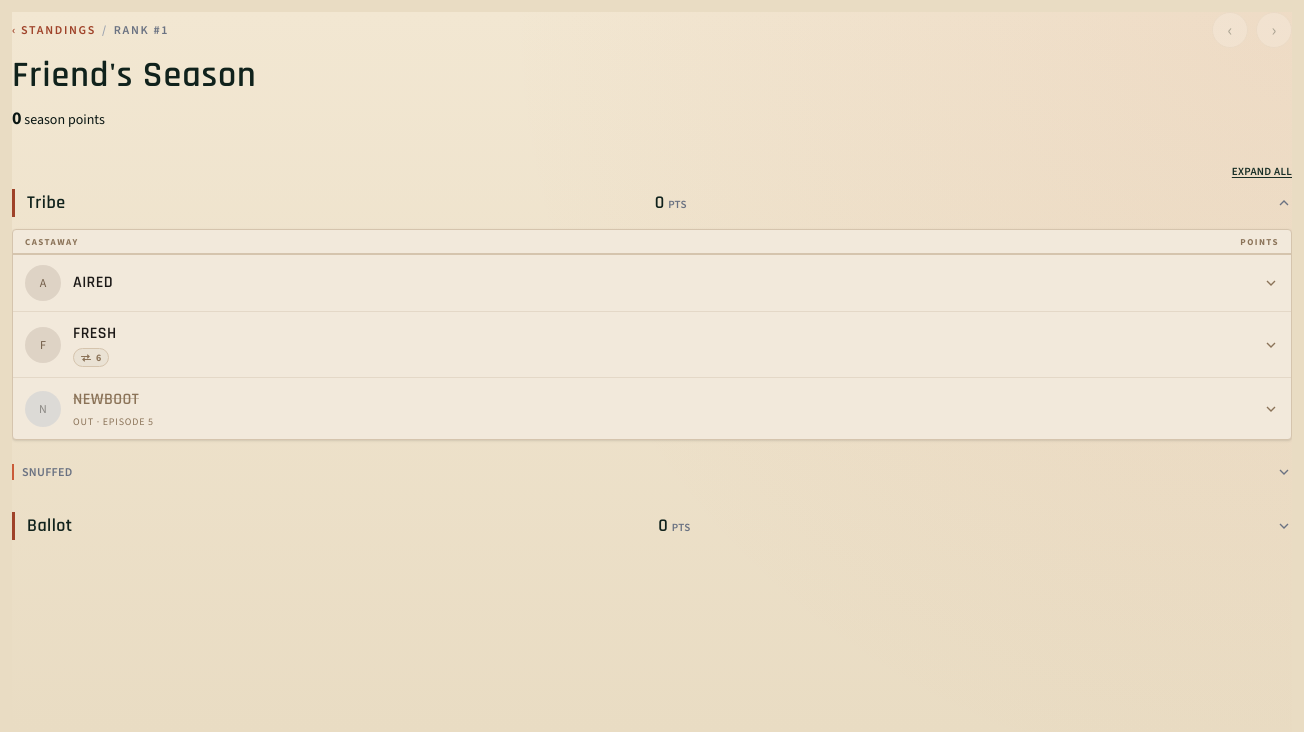
TeamPage › tucks an old boot under Snuffed and retires the swap chip once it has aired, like My Season
The image size is (1304, 732).
Expected: the text "Newboot" is shown, [73, 388, 139, 412]
Expected: the text "Oldboot" is not shown
Click the button "Snuffed" at (47, 472), box [12, 464, 1292, 480]
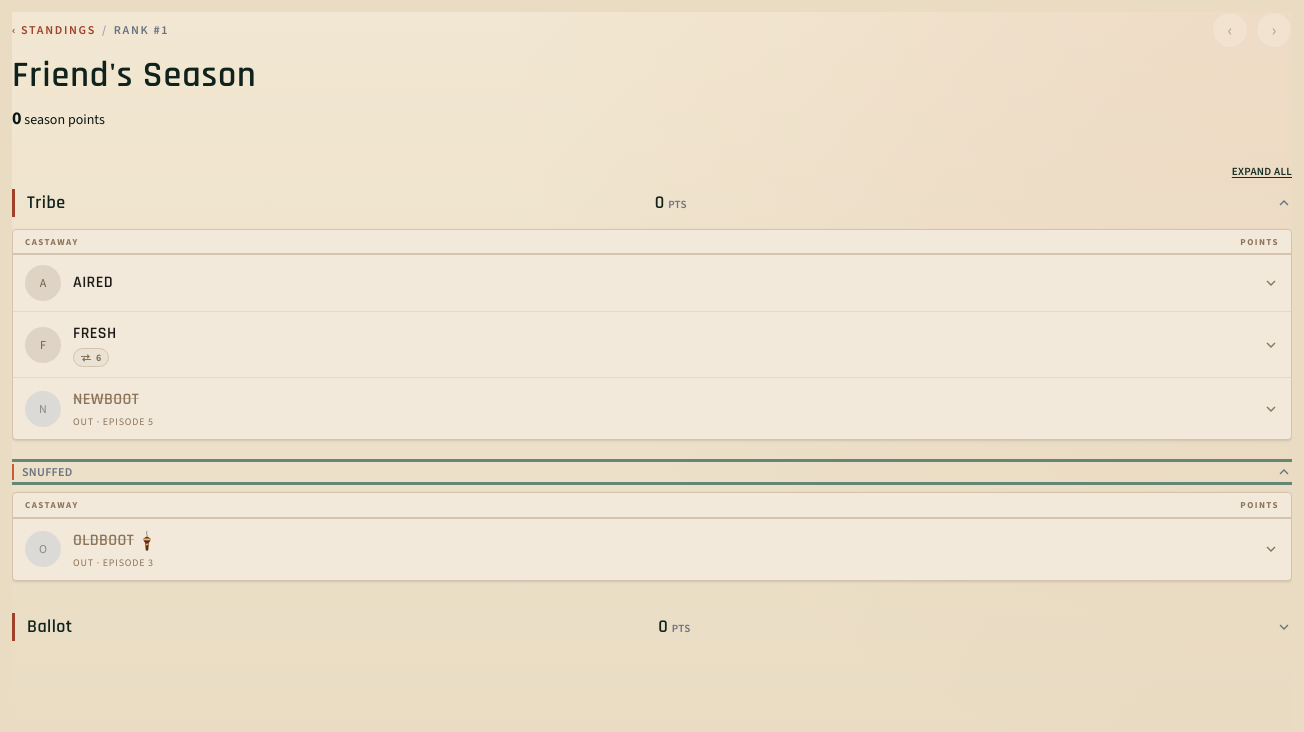
Expected: the element titled "Swapped onto the tribe in episode 6" is shown, [73, 348, 109, 367]
Expected: the text "Oldboot" is shown, [73, 528, 134, 552]
Expected: the icon with class "sole-survivor-torch" is shown, [140, 530, 154, 551]
